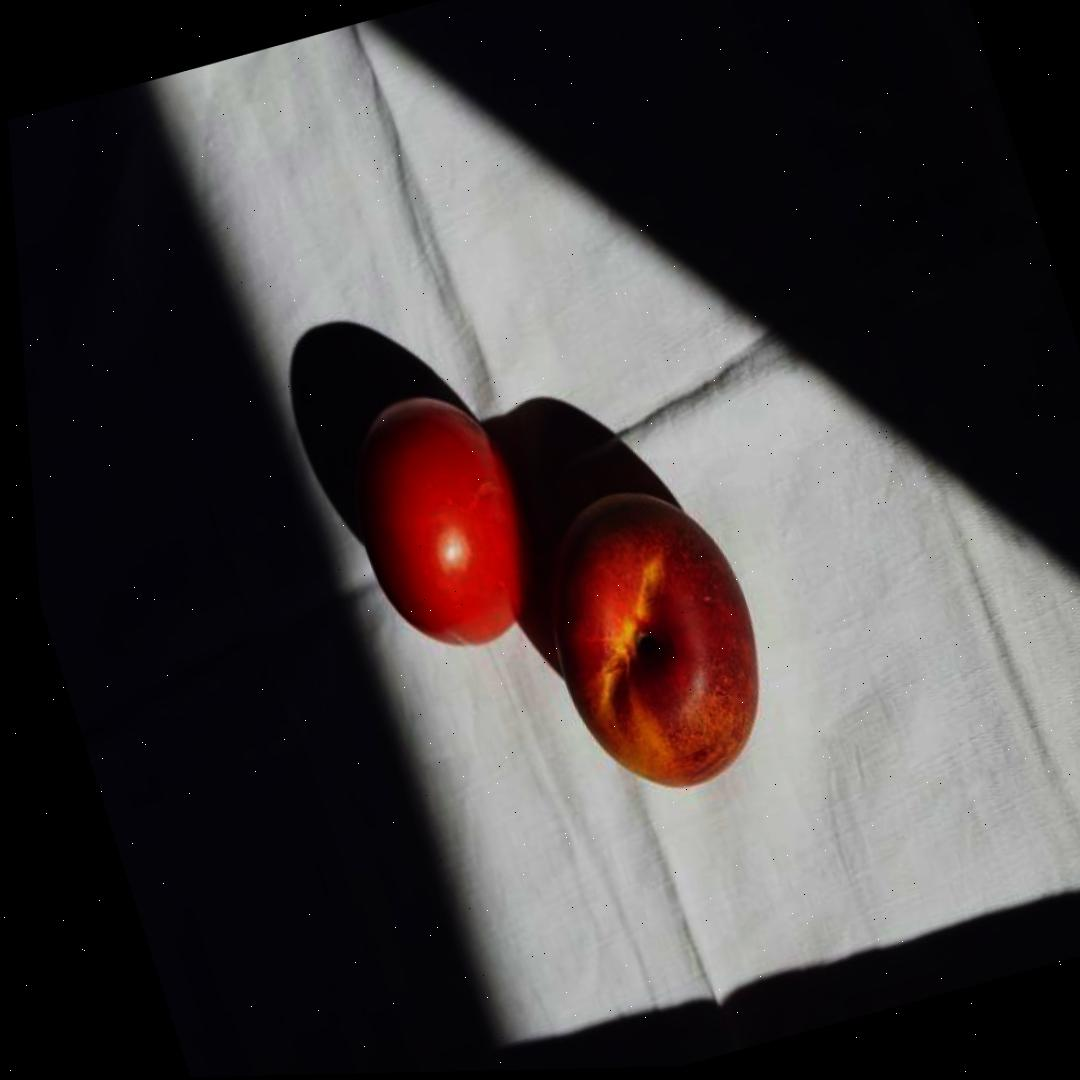matang: (320, 372, 566, 672)
